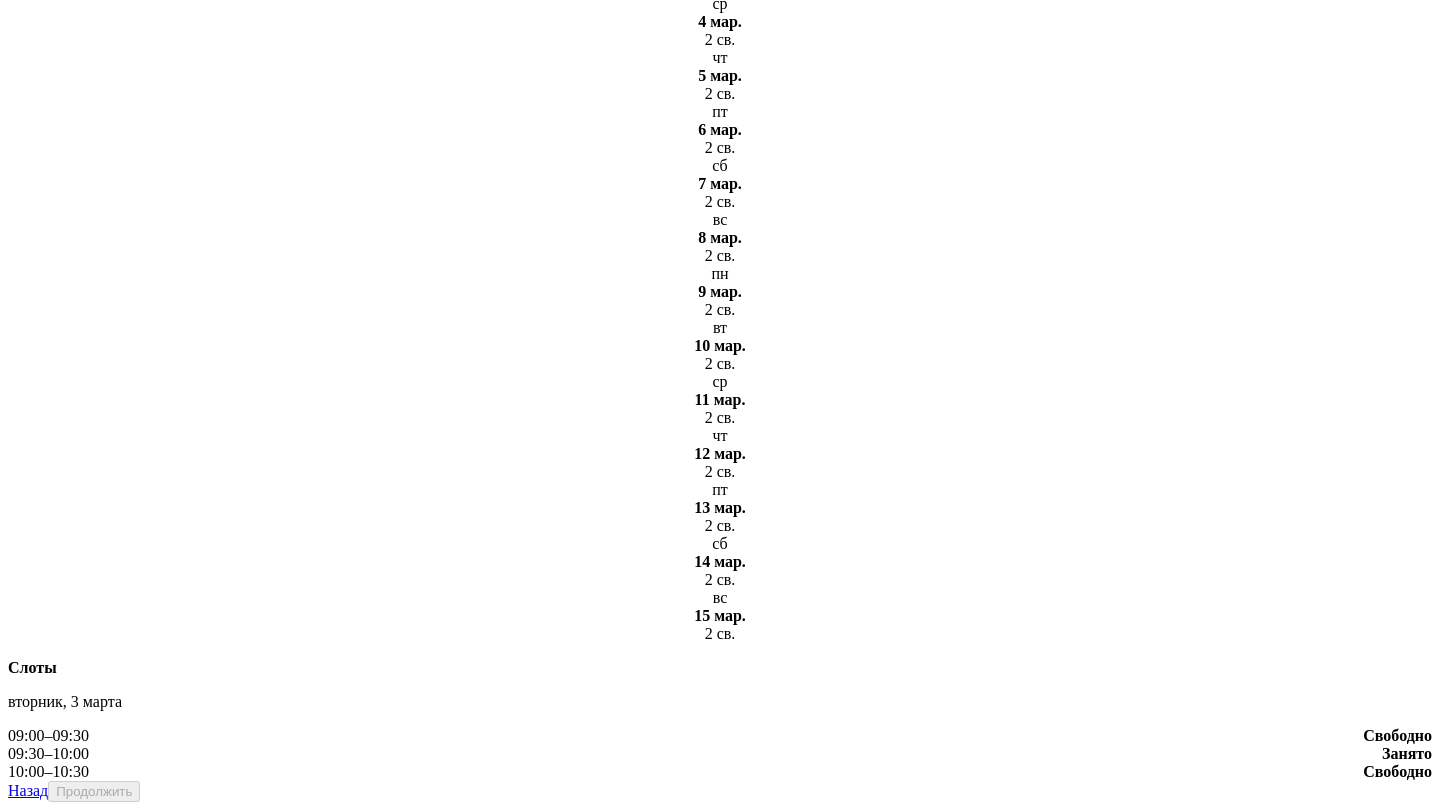
Scenario: поле телефона необязательное и объясняет, зачем нужно
(page scrolled)
Click the button "09:00–09:30 Свободно" at (48, 735), box [8,727,1432,745]
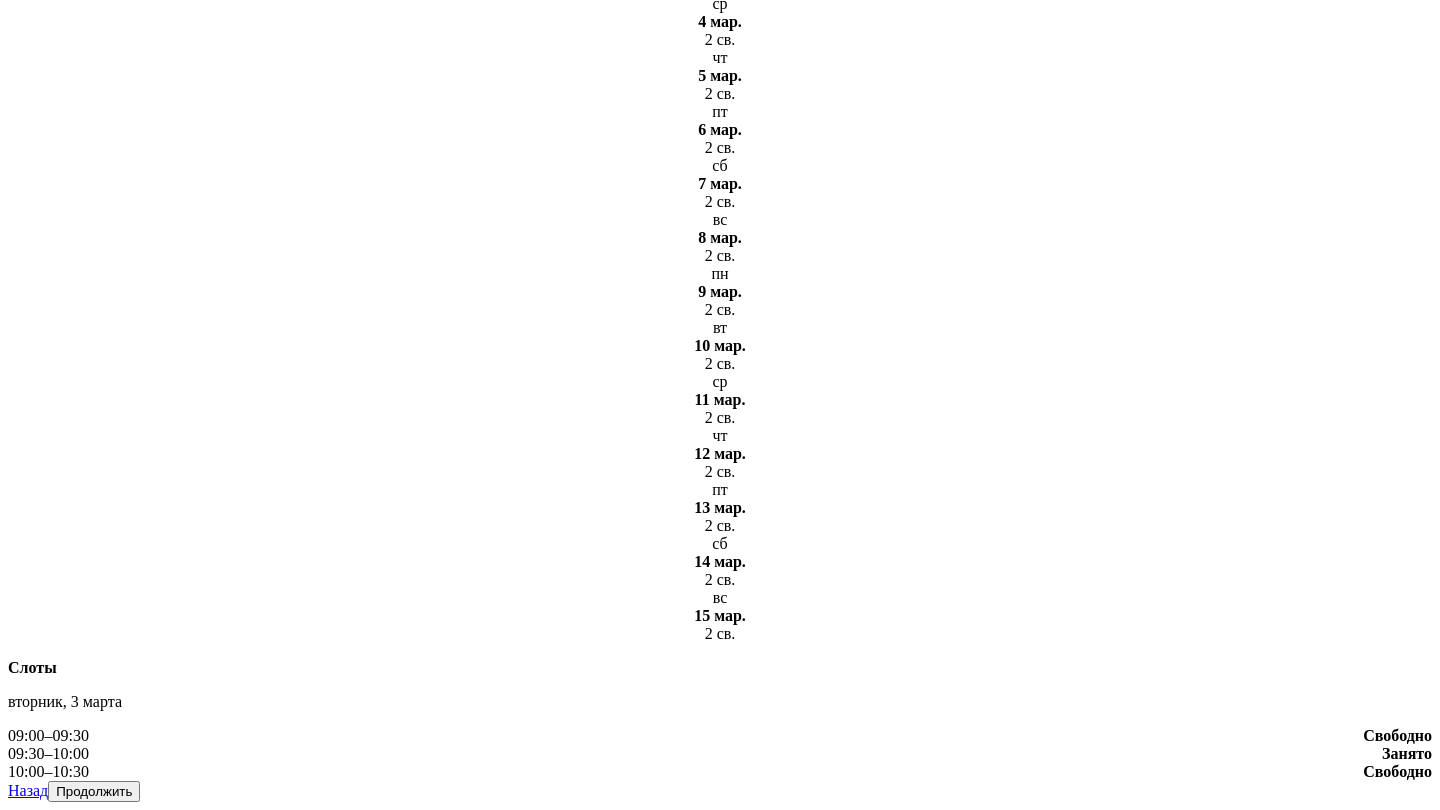
Click the button "Продолжить" at (94, 791), box [48,781,140,802]
(page scrolled)
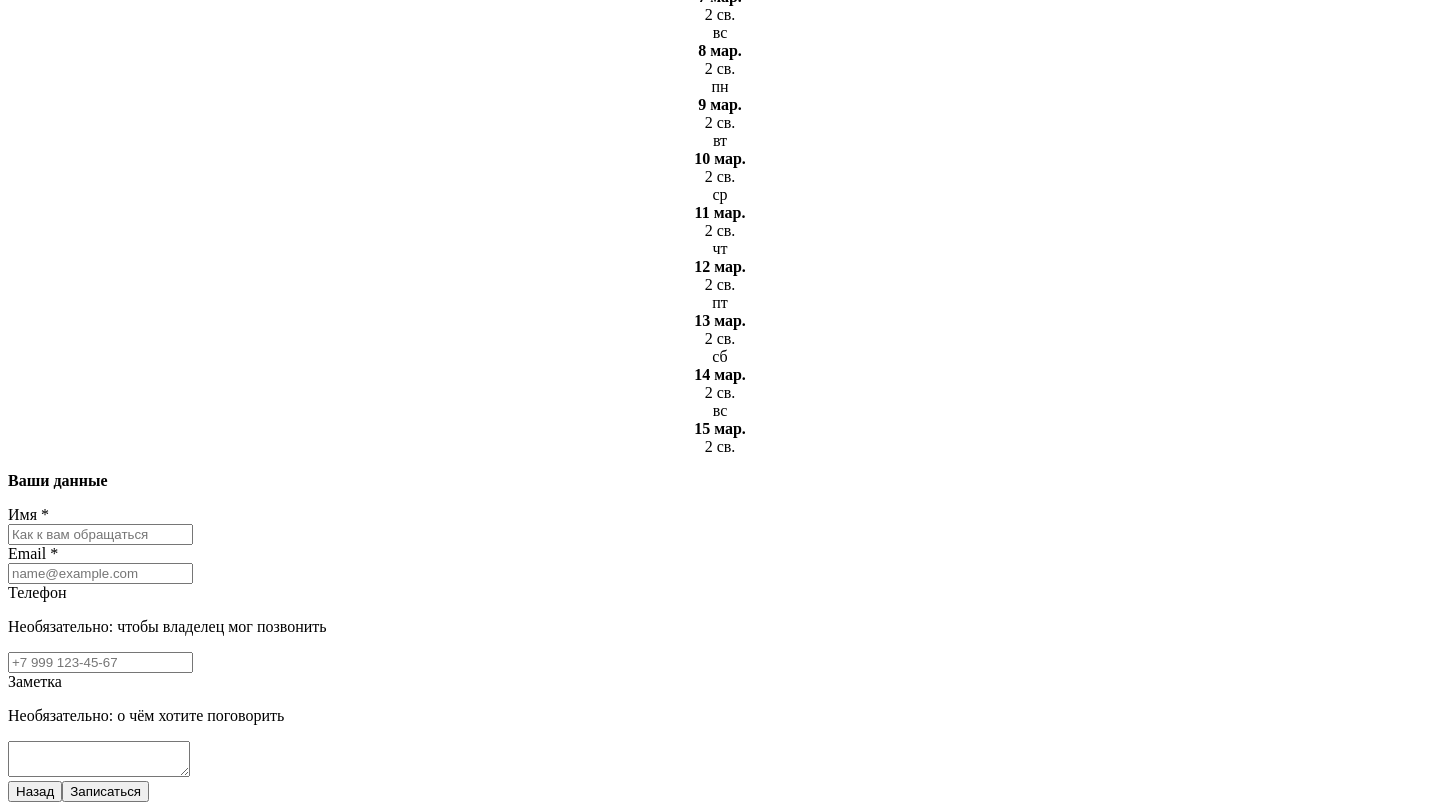
Expected: the field labelled "Телефон" is shown, [8,652,193,673]
Expected: the text "Необязательно: чтобы владелец мог позвонить" is shown, [8,618,327,635]
